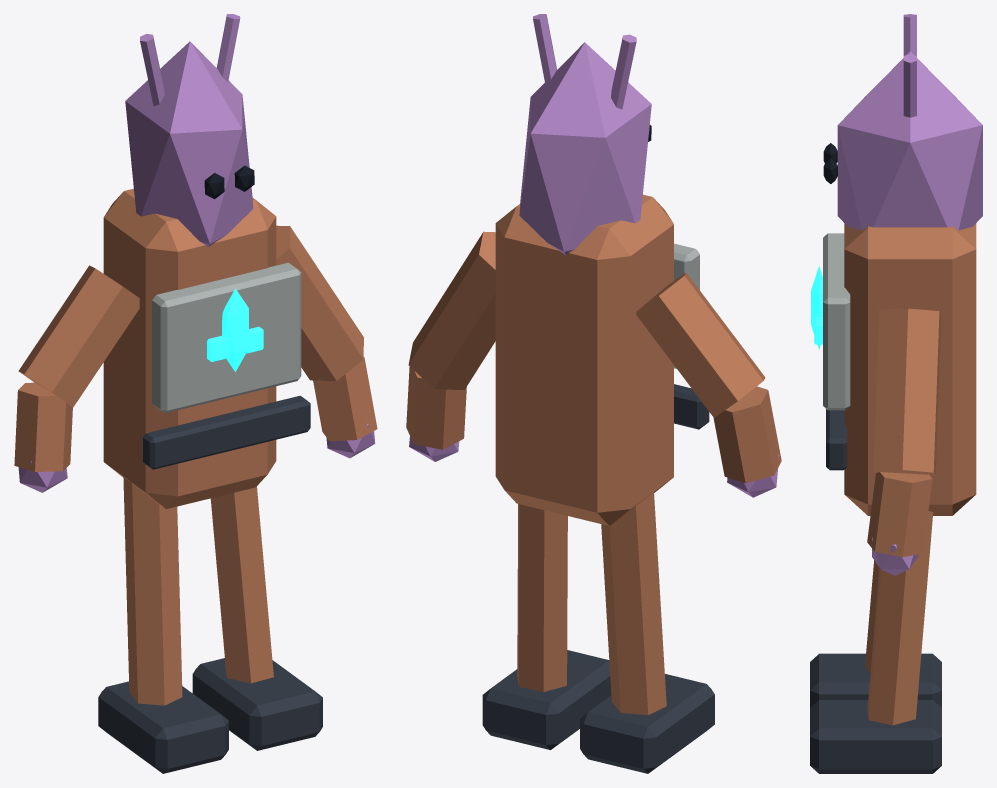
Rendered from npcs_010_seed11.glb.
The picture shows the model from 3 angles, left to right: view 1: azimuth 30°, elevation 25°; view 2: azimuth 150°, elevation 25°; view 3: azimuth 270°, elevation 25°; orthographic projection. The views are drawn at different scales.
Visible parts, largest first — view 1: npcs_010_seed11; view 2: npcs_010_seed11; view 3: npcs_010_seed11.
Boxes of the visible parts, left/top/right/bottom form: npcs_010_seed11: left=14, top=14, right=377, bottom=773; npcs_010_seed11: left=406, top=14, right=781, bottom=773; npcs_010_seed11: left=810, top=14, right=982, bottom=773.
Size of the model in its own units: 1.08 by 2.02 by 0.4535.
